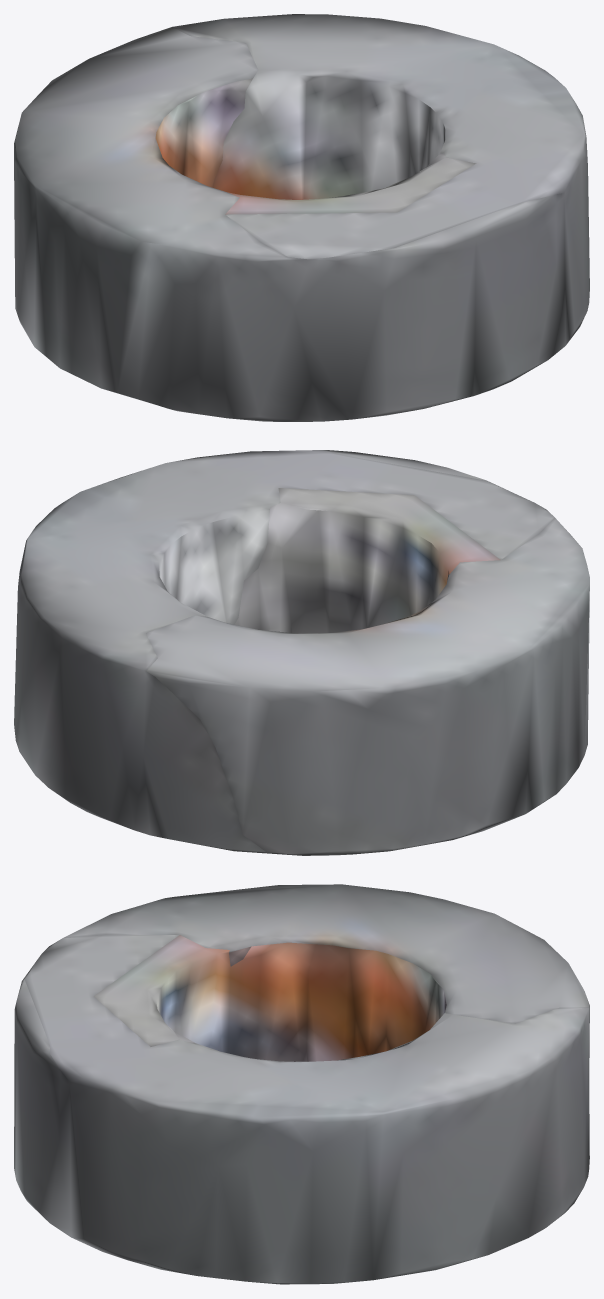
Rendered from Shurtape_Gaffers_Tape_Silver_2_x_60_yd-medium.glb.
3 renders of one model, top to bottom at view 1: azimuth 30°, elevation 25°; view 2: azimuth 150°, elevation 25°; view 3: azimuth 270°, elevation 25°, orthographic.
Parts seen in each view (by area): view 1: Shurtape_Gaffers_Tape_Silver_2_x_60_yd; view 2: Shurtape_Gaffers_Tape_Silver_2_x_60_yd; view 3: Shurtape_Gaffers_Tape_Silver_2_x_60_yd.
Part boxes in pixels (<box>): Shurtape_Gaffers_Tape_Silver_2_x_60_yd: <box>14,14,589,421</box>; Shurtape_Gaffers_Tape_Silver_2_x_60_yd: <box>14,450,589,855</box>; Shurtape_Gaffers_Tape_Silver_2_x_60_yd: <box>14,884,589,1284</box>.
Bounding box in the file's own units: 0.1534 × 0.0505 × 0.1526.
Materials: 1 (1 with a texture image).
